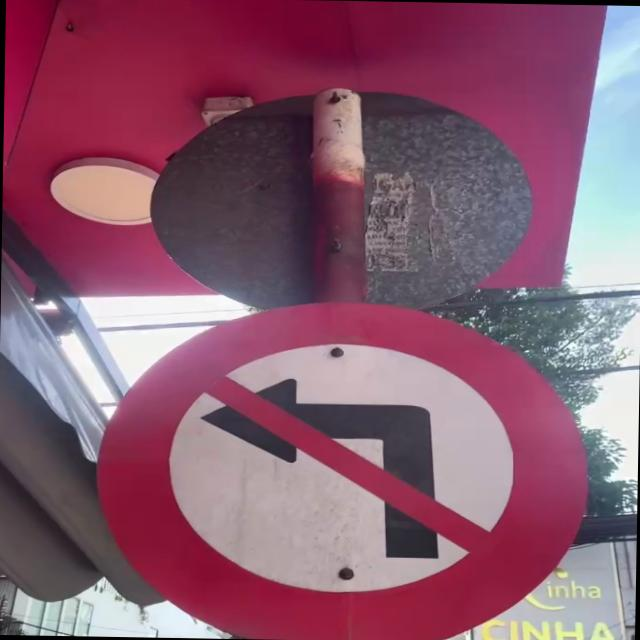Cam_Re_Trai: (90, 295, 591, 640)
